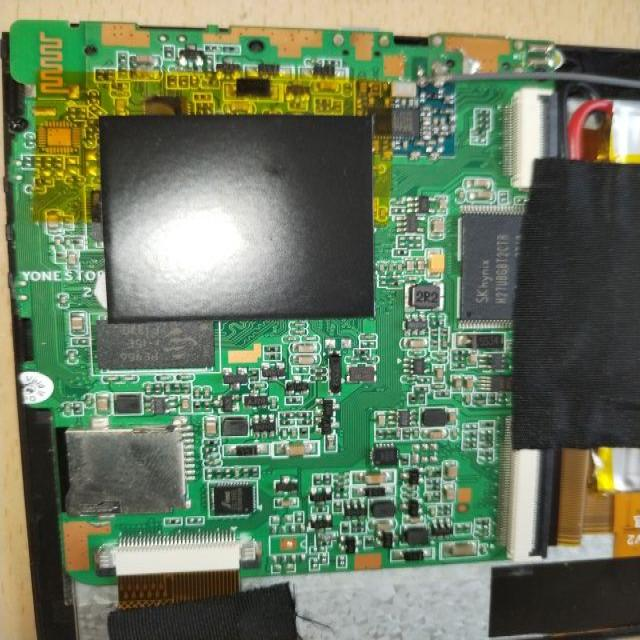capacitor: (198, 402, 225, 451)
